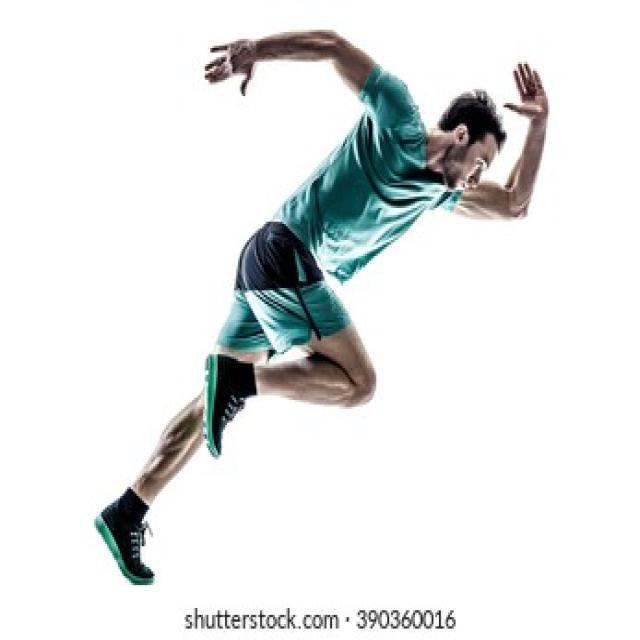running: (93, 29, 550, 589)
